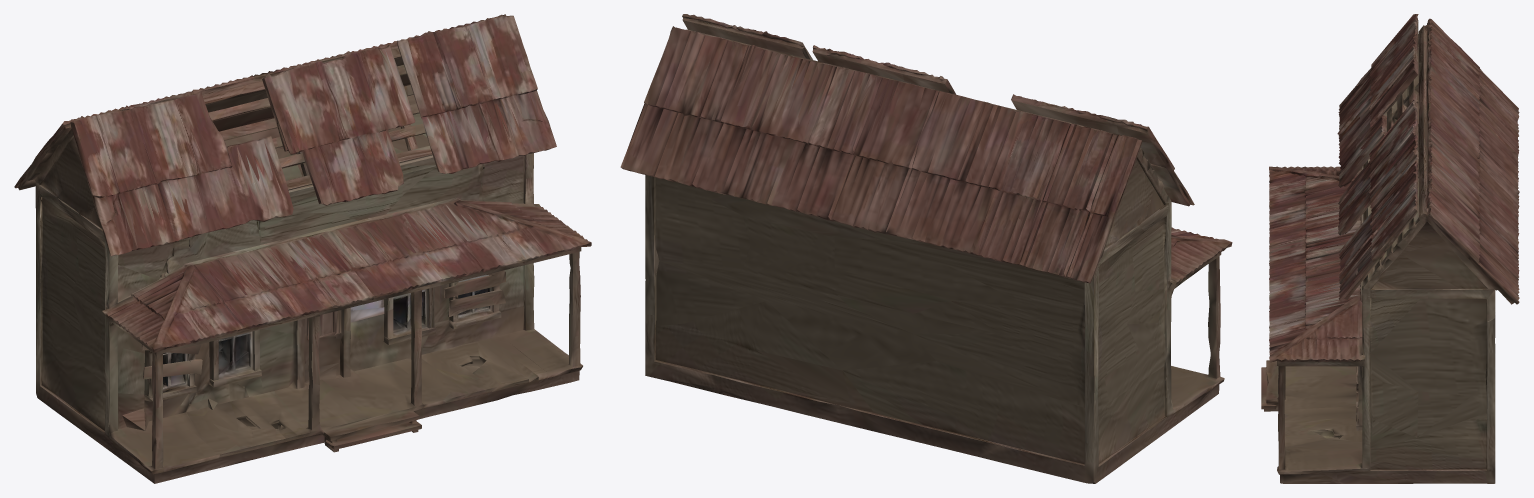
The model's file is house_farm_idle.glb.
3 renders of one model, left to right at view 1: azimuth 30°, elevation 25°; view 2: azimuth 150°, elevation 25°; view 3: azimuth 270°, elevation 25°, orthographic. The views are drawn at different scales.
Visible parts, largest first — view 1: tripo_node_156a4aa4-e157-4920-9da0-1a5a06f6ac81; view 2: tripo_node_156a4aa4-e157-4920-9da0-1a5a06f6ac81; view 3: tripo_node_156a4aa4-e157-4920-9da0-1a5a06f6ac81.
Boxes of the visible parts, x1,y1,x2,y2 form: tripo_node_156a4aa4-e157-4920-9da0-1a5a06f6ac81: [14, 14, 591, 483]; tripo_node_156a4aa4-e157-4920-9da0-1a5a06f6ac81: [620, 14, 1232, 483]; tripo_node_156a4aa4-e157-4920-9da0-1a5a06f6ac81: [1261, 14, 1519, 483].
Size of the model in its own units: 9.99 by 6.73 by 5.55.
1 material, 1 textured.
